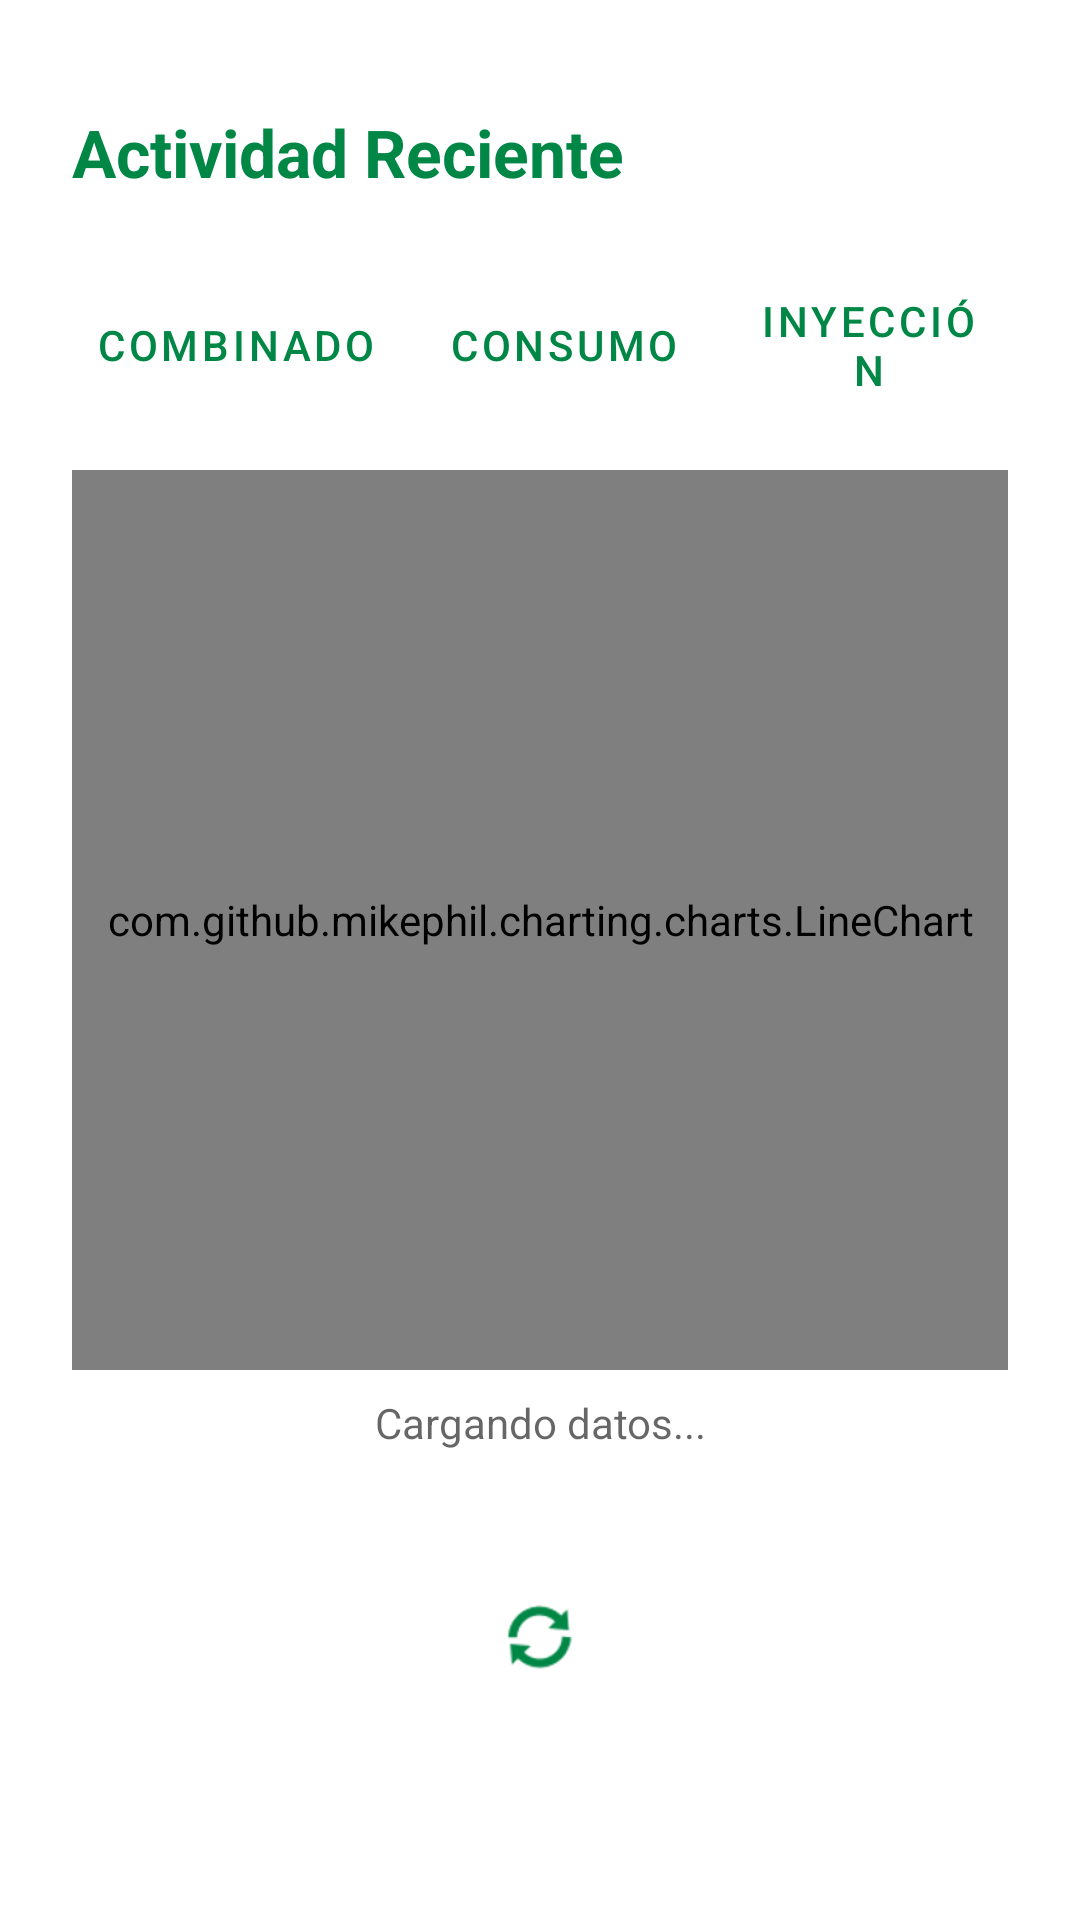

Point at icon controls on the screen. Image size 1080w x 1920h, points as [x,y].
Actualizar: [540,1637]
